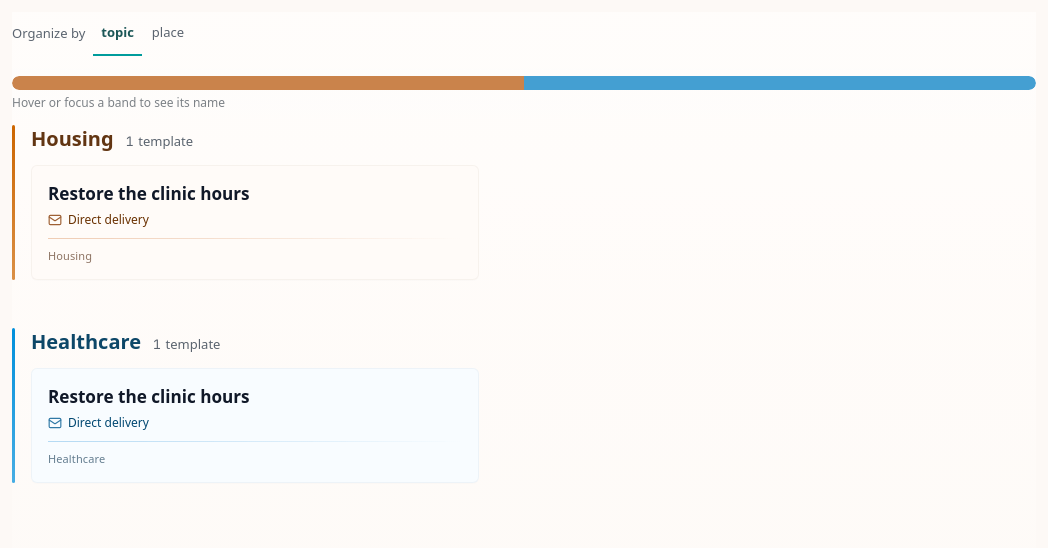
Scenario: SpectrumLandscape — lens toggle (topic ↔ place) › toggling place changes the group set from domains to geographic tiers
Click the button "place": [168, 34] box top-left (144, 12), bottom-right (192, 56)
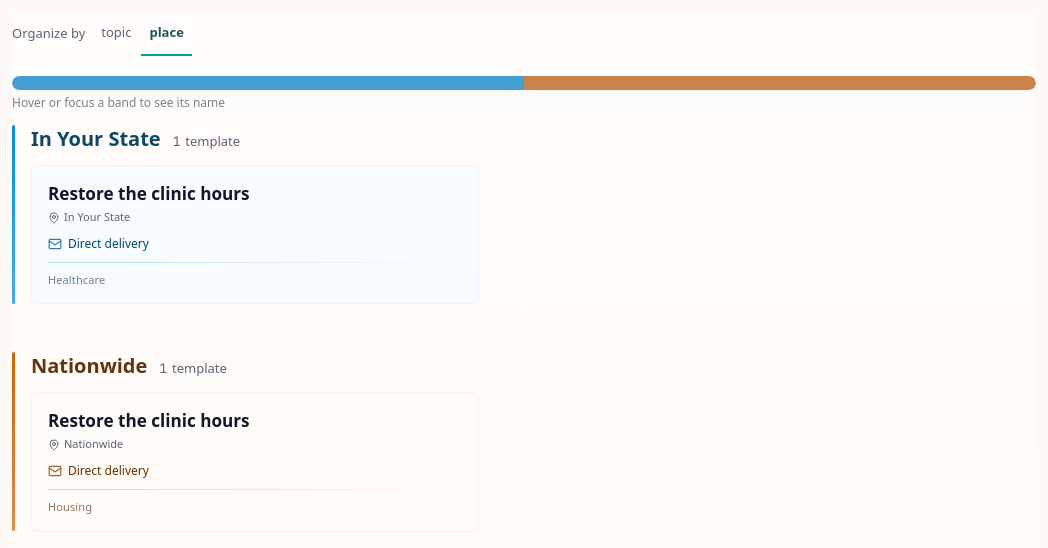
Now the button no longer shows "Healthcare"
